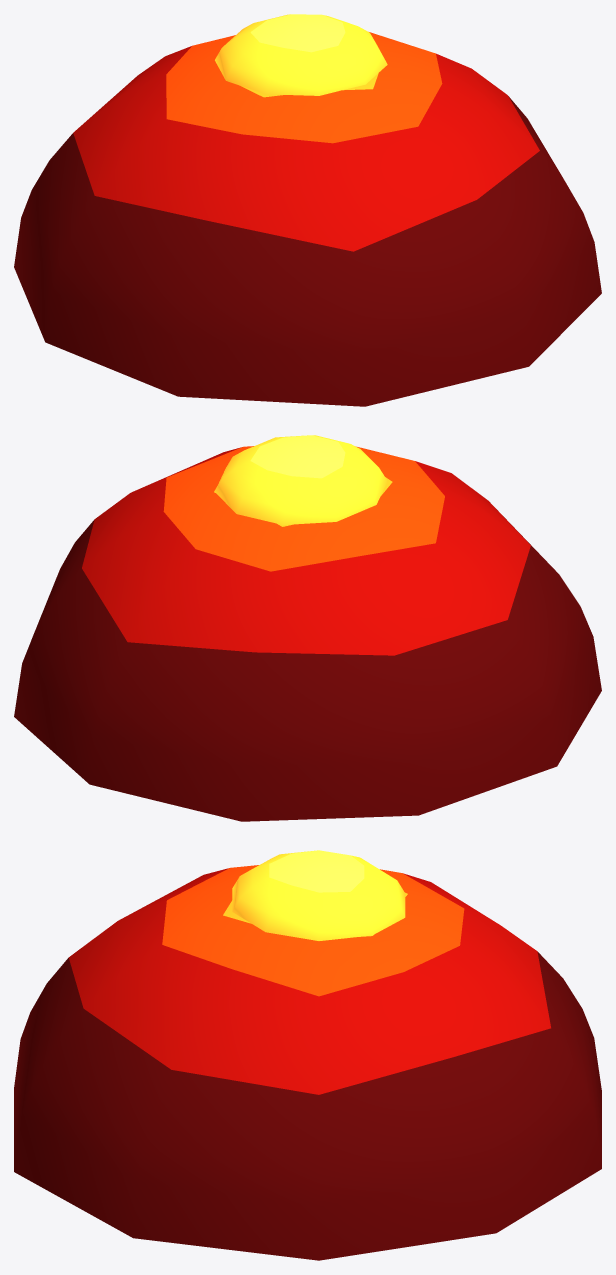
The model's file is shot_nort_bead.glb.
3 renders of one model, top to bottom at view 1: azimuth 30°, elevation 25°; view 2: azimuth 150°, elevation 25°; view 3: azimuth 270°, elevation 25°, orthographic. The views are drawn at different scales.
Visible parts, largest first — view 1: shot_nort_bead_body, shot_nort_bead_core; view 2: shot_nort_bead_body, shot_nort_bead_core; view 3: shot_nort_bead_body, shot_nort_bead_core.
Boxes of the visible parts, x1,y1,x2,y2 form: shot_nort_bead_body: (14,32,601,406); shot_nort_bead_core: (215,14,387,95); shot_nort_bead_body: (14,446,601,821); shot_nort_bead_core: (215,435,387,524); shot_nort_bead_body: (14,865,601,1260); shot_nort_bead_core: (232,850,405,940).
Size of the model in its own units: 5.1 by 2.43 by 4.85.
